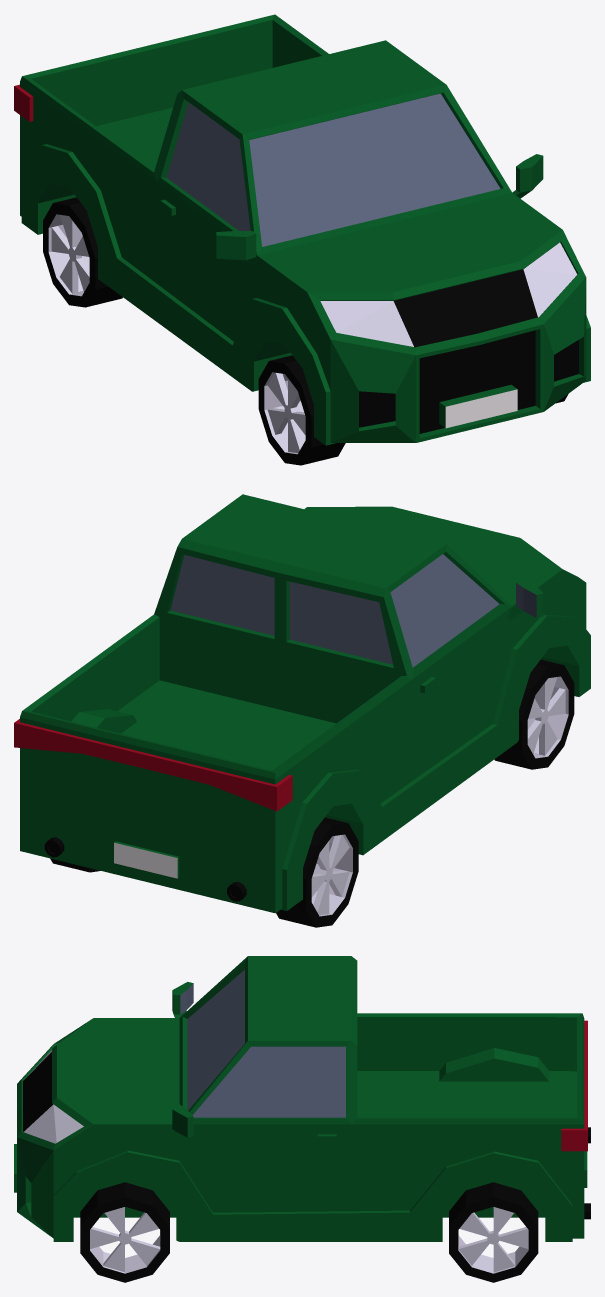
The model's file is Pickup.glb.
3 renders of one model, top to bottom at view 1: azimuth 30°, elevation 25°; view 2: azimuth 150°, elevation 25°; view 3: azimuth 270°, elevation 25°, orthographic. The views are drawn at different scales.
Parts seen in each view (by area): view 1: Pickup; view 2: Pickup; view 3: Pickup.
Part boxes in pixels (<box>): Pickup: <box>14,14,590,465</box>; Pickup: <box>14,494,590,927</box>; Pickup: <box>14,956,590,1282</box>.
Bounding box in the file's own units: 0.6168 × 0.4846 × 1.1.
